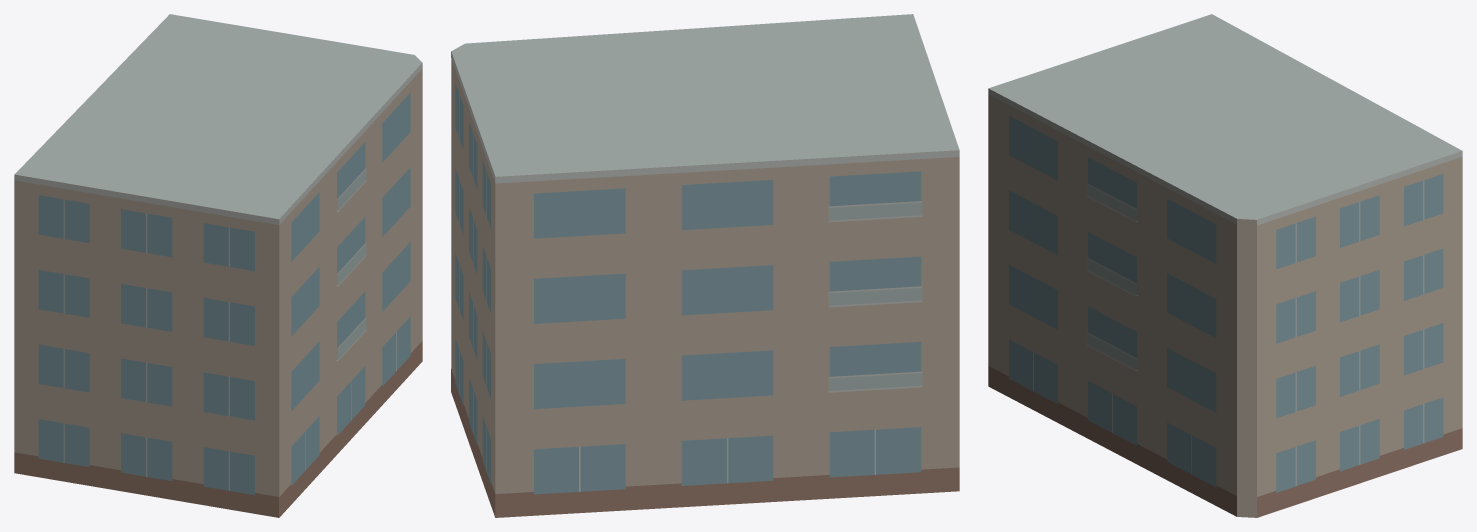
Rendered from survey-upis-32912953.glb.
3 views of the same model, side by side, from view 1: azimuth 30°, elevation 25°; view 2: azimuth 150°, elevation 25°; view 3: azimuth 270°, elevation 25° (orthographic). The views are drawn at different scales.
Parts seen in each view (by area): view 1: survey-upis-32912953.tmp; view 2: survey-upis-32912953.tmp; view 3: survey-upis-32912953.tmp.
Part boxes in pixels (x1,y1,x2,y2): survey-upis-32912953.tmp: (14,14,422,517); survey-upis-32912953.tmp: (451,14,959,517); survey-upis-32912953.tmp: (988,14,1462,517).
Bounding box in the file's own units: 18.53 × 12.5 × 18.04.
